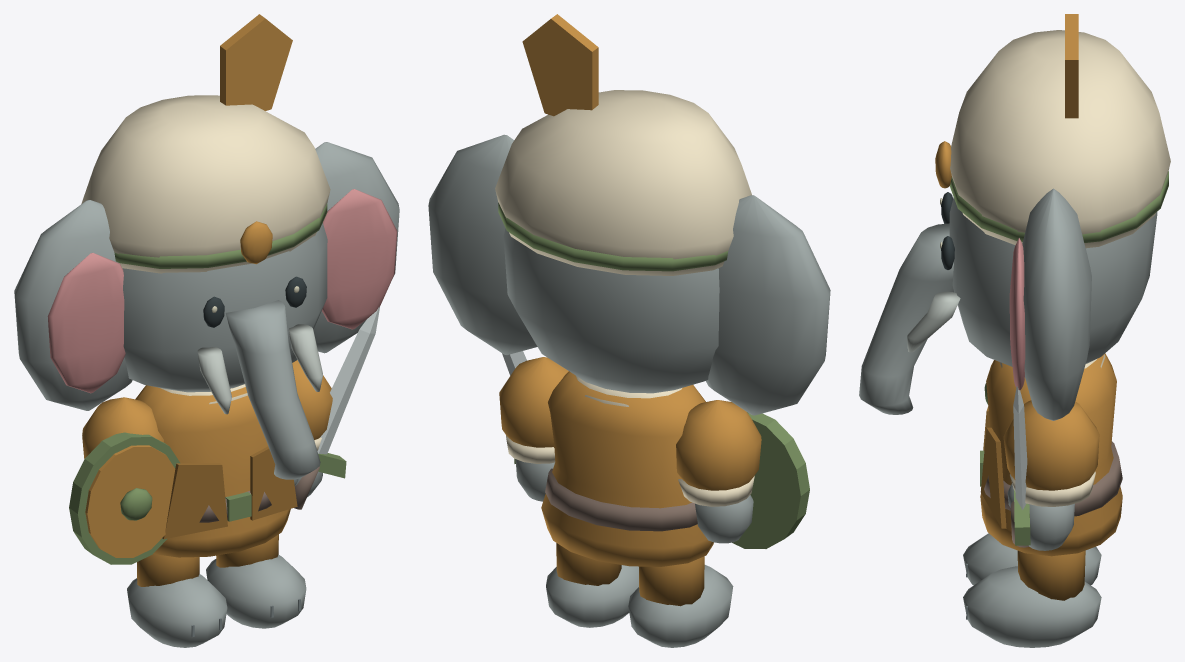
Rendered from warrior.glb.
3 renders of one model, left to right at view 1: azimuth 30°, elevation 25°; view 2: azimuth 150°, elevation 25°; view 3: azimuth 270°, elevation 25°, orthographic. The views are drawn at different scales.
Parts seen in each view (by area): view 1: Layered cloth turban, Animal cheek head, Short folded tunic, Elephant broad ear, Curved elephant trunk, Elephant ear lining, Elephant ear lining.001, Regional shield face, Soft animal paw, Soft animal paw.001, Turban fan, Elephant broad ear.001 (+15 smaller); view 2: Layered cloth turban, Animal cheek head, Short folded tunic, Elephant broad ear, Elephant broad ear.001, Puff sleeve, Shield gold rim, Turban fan, Soft animal paw, Puff sleeve.001, Soft animal paw.001, Broad leather belt (+8 smaller); view 3: Layered cloth turban, Animal cheek head, Elephant broad ear.001, Curved elephant trunk, Short folded tunic, Soft animal paw.001, Puff sleeve.001, Stubby trouser.001, Soft animal paw, Turban wrapping, Elephant ear lining.001, Little mitten.001 (+8 smaller).
Boxes of the visible parts, x1,y1,x2,y2 form: Layered cloth turban: (81, 95, 330, 273); Animal cheek head: (122, 223, 327, 392); Short folded tunic: (135, 385, 290, 557); Elephant broad ear: (14, 200, 132, 410); Curved elephant trunk: (225, 300, 320, 479); Elephant ear lining: (47, 253, 125, 393); Elephant ear lining.001: (322, 189, 397, 329); Regional shield face: (85, 445, 175, 557); Soft animal paw: (127, 574, 227, 647); Soft animal paw.001: (206, 554, 306, 628); Turban fan: (220, 14, 292, 110); Elephant broad ear.001: (313, 142, 399, 353); Layered cloth turban: (495, 90, 751, 275); Animal cheek head: (503, 228, 719, 393); Short folded tunic: (541, 371, 713, 566); Elephant broad ear: (706, 195, 830, 415); Elephant broad ear.001: (428, 134, 537, 354); Puff sleeve: (676, 400, 761, 490); Shield gold rim: (732, 412, 809, 548); Turban fan: (522, 14, 598, 116); Soft animal paw: (628, 565, 733, 647); Puff sleeve.001: (499, 357, 568, 447); Soft animal paw.001: (546, 565, 638, 627); Broad leather belt: (545, 468, 697, 531); Layered cloth turban: (950, 30, 1170, 248); Animal cheek head: (949, 197, 1157, 366); Elephant broad ear.001: (1022, 188, 1091, 420); Curved elephant trunk: (859, 223, 953, 414); Short folded tunic: (980, 353, 1122, 556); Soft animal paw.001: (963, 566, 1101, 647); Puff sleeve.001: (1003, 400, 1099, 490); Stubby trouser.001: (1017, 550, 1085, 600); Soft animal paw: (963, 533, 1101, 585); Turban wrapping: (949, 171, 1168, 242); Elephant ear lining.001: (1009, 238, 1025, 390); Little mitten.001: (1029, 503, 1074, 550).
Bounding box in the file's own units: 1.26 × 1.84 × 0.81.
